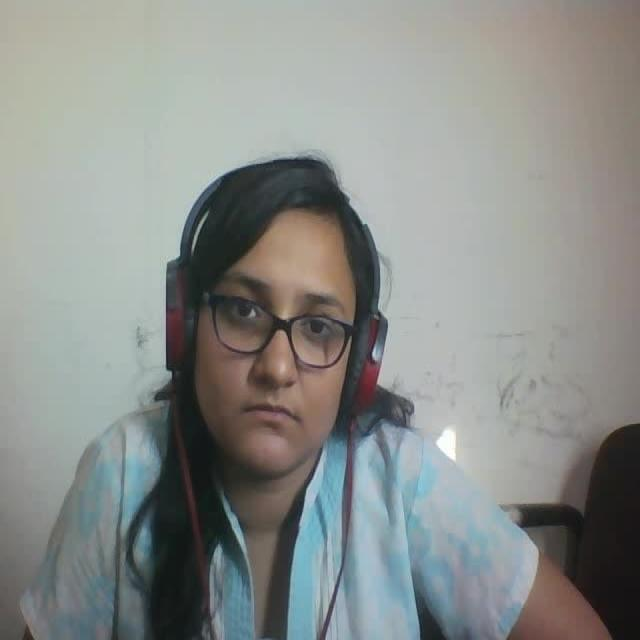Engaged: (154, 142, 421, 507)
